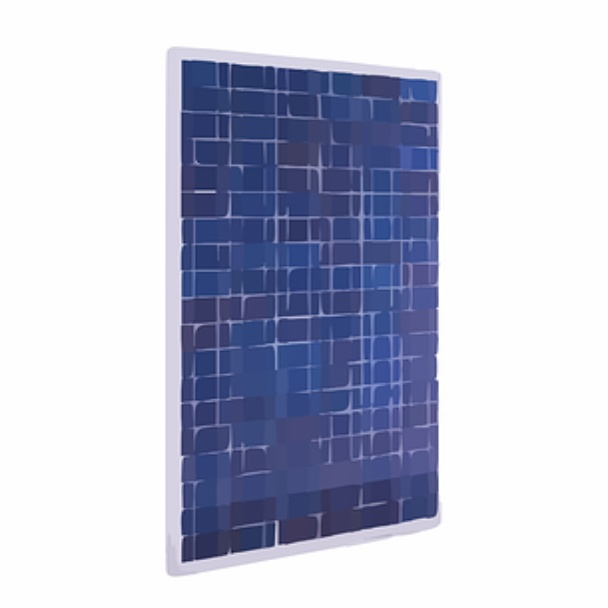solarpanels: (166, 45, 442, 559)
